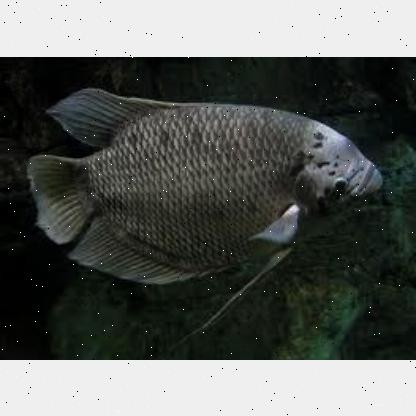gurame: (33, 91, 381, 269)
